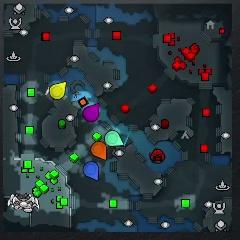p1: (82, 161, 101, 183)
p2: (104, 130, 124, 146)
p3: (83, 103, 101, 121)
p4: (49, 81, 67, 100)
p5: (91, 142, 108, 162)
